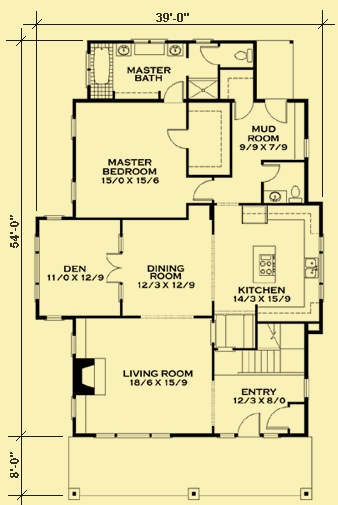kitchen has cooking range, twin sink and other cooking appliances: (214, 203, 320, 321)
small bathroom has sink and large sink: (259, 157, 309, 206)
this master bathroom has a large tub space, dual sinks shower space and large si: (86, 40, 258, 103)
